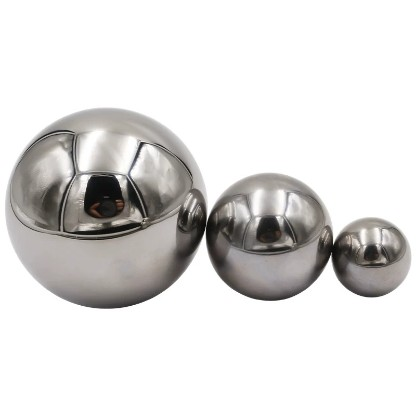ironball: (4, 106, 207, 309), (205, 171, 333, 301), (331, 216, 411, 297)
